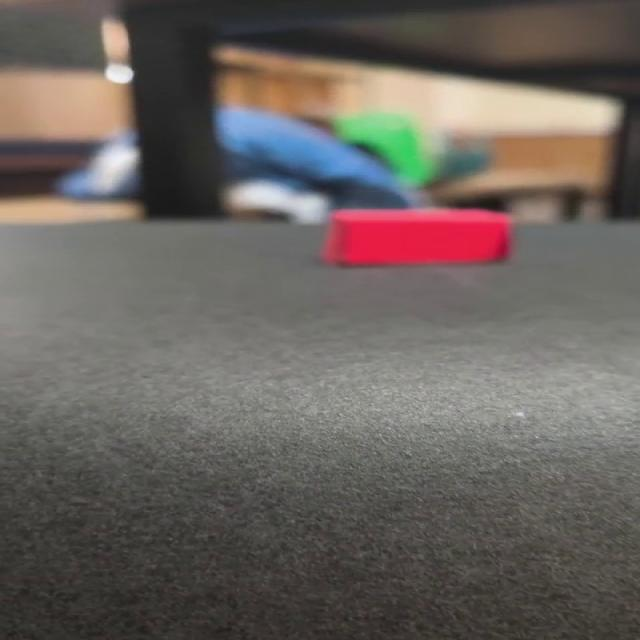red block: (320, 206, 513, 266)
